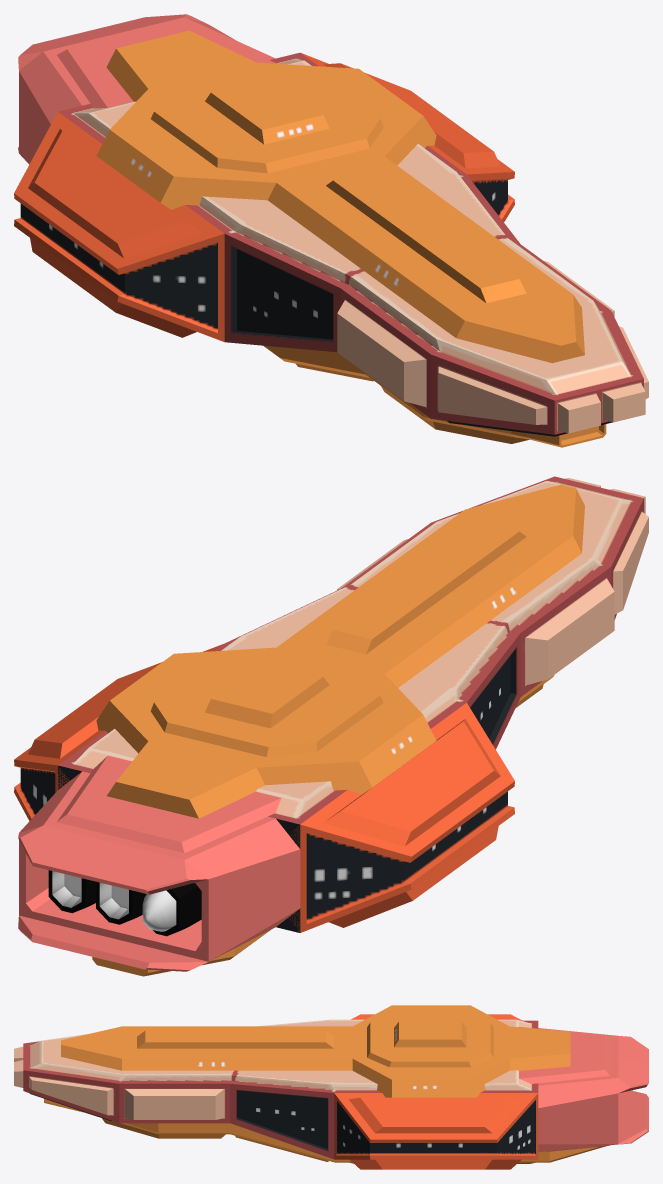
Rendered from ship_2.fbx.
3 renders of one model, top to bottom at view 1: azimuth 30°, elevation 25°; view 2: azimuth 150°, elevation 25°; view 3: azimuth 270°, elevation 25°, orthographic. The views are drawn at different scales.
Visible parts, largest first — view 1: Ship_2_regen_1, Ship_2_main, Ship_2_weapon_1, Ship_2_engines, Ship_2_weapon_1.001, Ship_2_energy_1; view 2: Ship_2_regen_1, Ship_2_engines, Ship_2_main, Ship_2_weapon_1, Ship_2_weapon_1.001, Cylinder.001, Cylinder, Cylinder.002, Engine_Glow_geo, Ship_2_energy_1; view 3: Ship_2_regen_1, Ship_2_main, Ship_2_weapon_1.001, Ship_2_engines, Ship_2_energy_1.
Boxes of the visible parts, bbox=[...] form: Ship_2_regen_1: bbox=[96, 30, 584, 362]; Ship_2_main: bbox=[58, 52, 648, 436]; Ship_2_weapon_1: bbox=[14, 112, 224, 341]; Ship_2_engines: bbox=[18, 14, 277, 164]; Ship_2_weapon_1.001: bbox=[301, 53, 514, 221]; Ship_2_energy_1: bbox=[263, 345, 606, 447]; Ship_2_regen_1: bbox=[96, 484, 584, 818]; Ship_2_engines: bbox=[18, 755, 300, 971]; Ship_2_main: bbox=[58, 476, 648, 932]; Ship_2_weapon_1: bbox=[288, 703, 514, 932]; Ship_2_weapon_1.001: bbox=[14, 644, 223, 820]; Cylinder.001: bbox=[48, 870, 95, 913]; Cylinder: bbox=[96, 881, 143, 924]; Cylinder.002: bbox=[143, 883, 201, 936]; Engine_Glow_geo: bbox=[142, 890, 176, 931]; Ship_2_energy_1: bbox=[92, 675, 554, 976]; Ship_2_regen_1: bbox=[61, 1005, 570, 1097]; Ship_2_main: bbox=[14, 1019, 538, 1159]; Ship_2_weapon_1.001: bbox=[334, 1093, 538, 1169]; Ship_2_engines: bbox=[519, 1026, 648, 1152]; Ship_2_energy_1: bbox=[44, 1098, 606, 1163].
Size of the model in its own units: 441 by 205 by 997.
